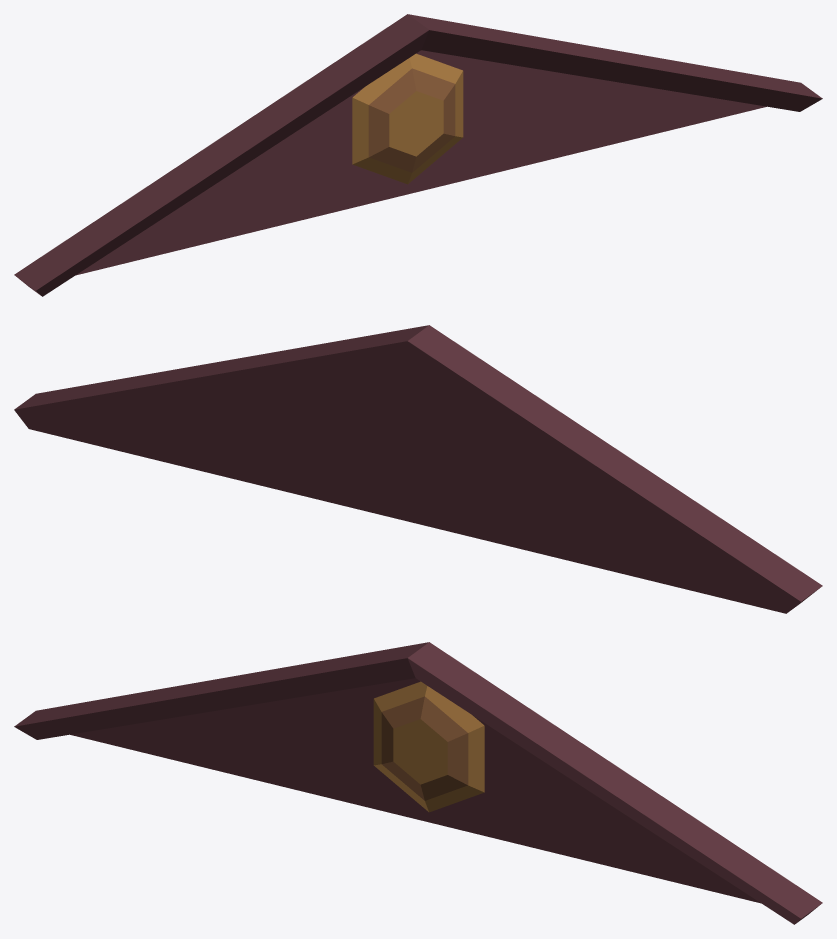
File: empire-wall-vertical-symbol-3m-empire.glb
3 renders of one model, top to bottom at view 1: azimuth 30°, elevation 25°; view 2: azimuth 150°, elevation 25°; view 3: azimuth 330°, elevation 25°, orthographic.
Parts seen in each view (by area): view 1: SM_Wall_Vertical_Symbol_3m_Empire; view 2: SM_Wall_Vertical_Symbol_3m_Empire; view 3: SM_Wall_Vertical_Symbol_3m_Empire.
Boxes of the visible parts, left/top/right/bottom form: SM_Wall_Vertical_Symbol_3m_Empire: left=14, top=14, right=822, bottom=296; SM_Wall_Vertical_Symbol_3m_Empire: left=14, top=325, right=822, bottom=613; SM_Wall_Vertical_Symbol_3m_Empire: left=14, top=642, right=822, bottom=924.
Bounding box in the file's own units: 3.12 × 0.6825 × 0.1499.
